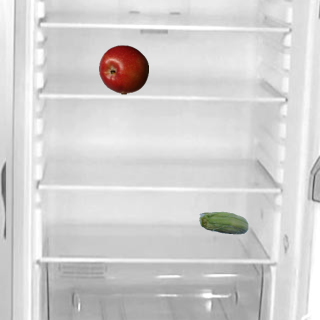Apple Braeburn: (98, 44, 148, 94)
Corn Husk: (198, 199, 248, 249)
